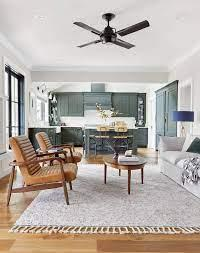chair: (3, 130, 77, 204), (33, 122, 83, 171), (90, 122, 114, 153), (112, 121, 133, 150)
door: (160, 85, 178, 152), (153, 89, 166, 152)
fan: (72, 12, 152, 57)
light: (173, 109, 194, 138), (38, 87, 62, 106), (35, 81, 52, 99), (170, 10, 188, 24), (28, 15, 43, 22)
sofa: (155, 131, 200, 196)
table: (100, 151, 150, 194), (85, 122, 136, 155)
